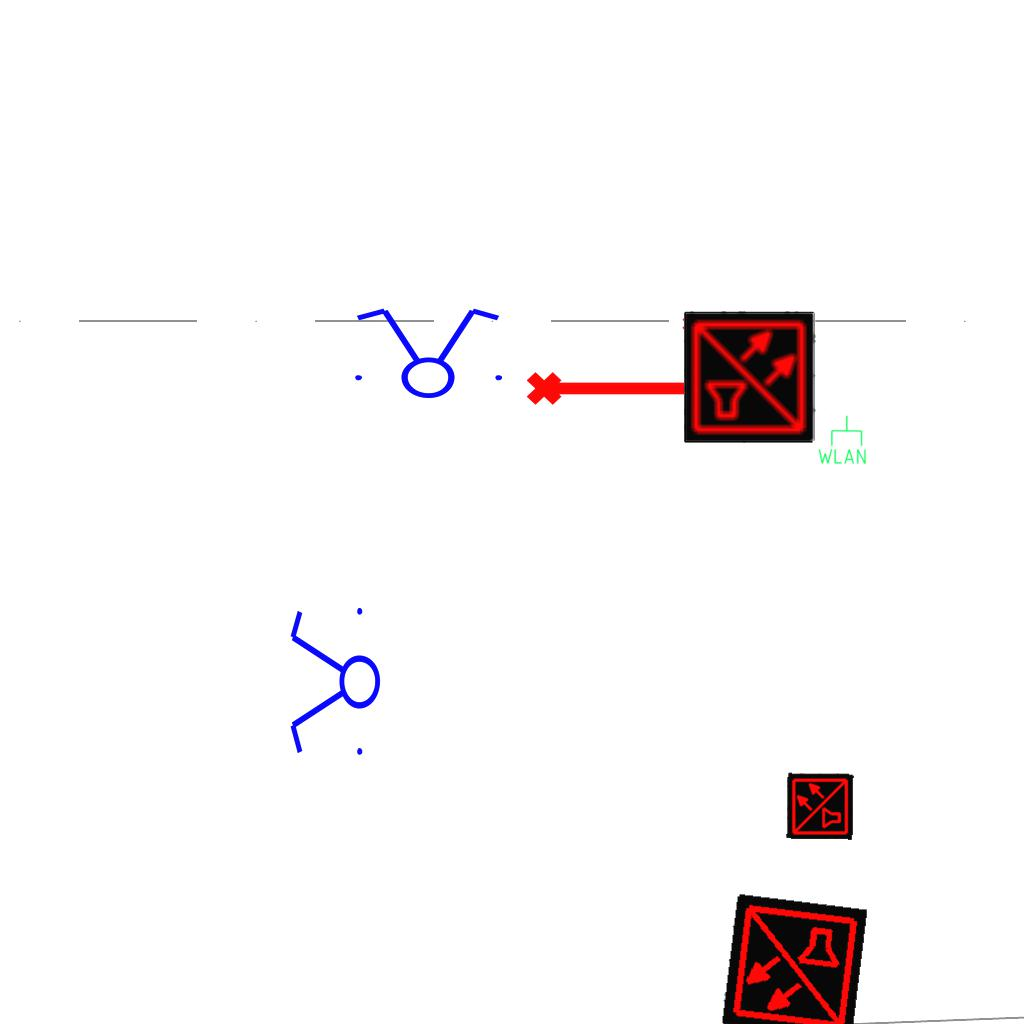ASR_Ansaugoeffnung: (524, 363, 700, 409), (681, 311, 769, 334)
OKW_Multisensormelder_(Kombination_optischer_Rauch-Kahlenmonoxid_Waerme-Melder): (720, 893, 868, 1024), (684, 311, 816, 443), (786, 772, 854, 840)
Serienschalter: (286, 599, 382, 767), (343, 304, 511, 400)
WLAN: (815, 413, 869, 467)
